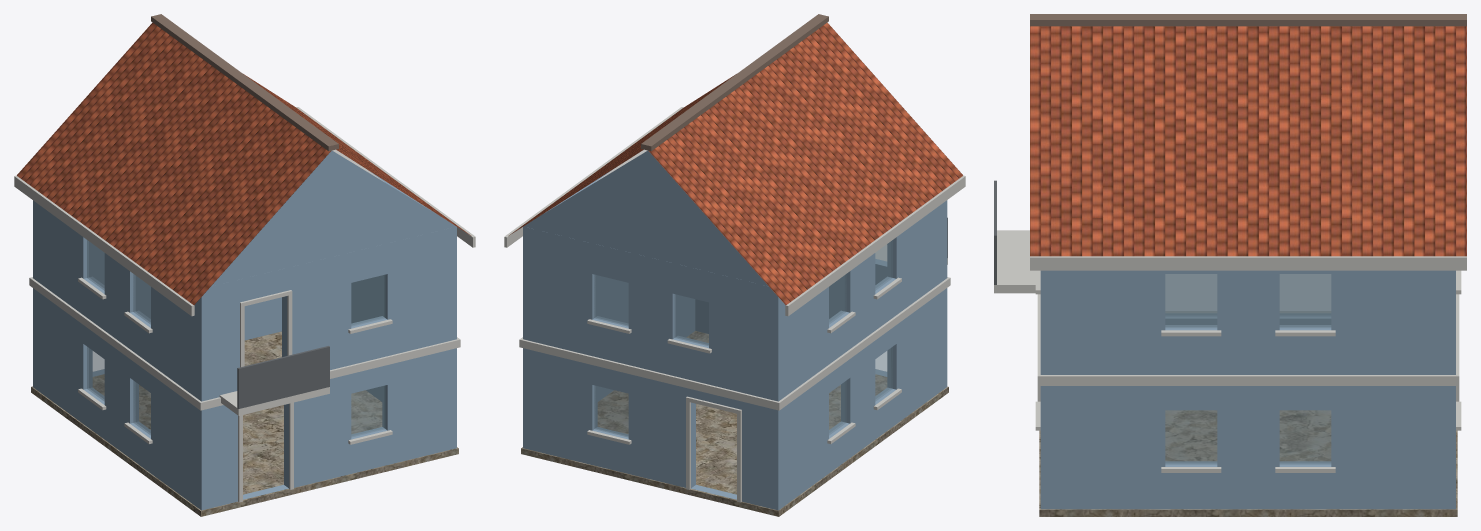
Rendered from cove-house-blue.glass-v3.lod1.glb.
3 views of the same model, side by side, from view 1: azimuth 30°, elevation 25°; view 2: azimuth 150°, elevation 25°; view 3: azimuth 270°, elevation 25° (orthographic). The views are drawn at different scales.
Parts seen in each view (by area): view 1: cove-house-blue; view 2: cove-house-blue; view 3: cove-house-blue.
Boxes of the visible parts, x1,y1,x2,y2 form: cove-house-blue: (14,14,475,516); cove-house-blue: (504,14,965,516); cove-house-blue: (994,14,1466,516).
Bounding box in the file's own units: 7.78 × 8.99 × 9.11.
4 materials, 2 textured.
